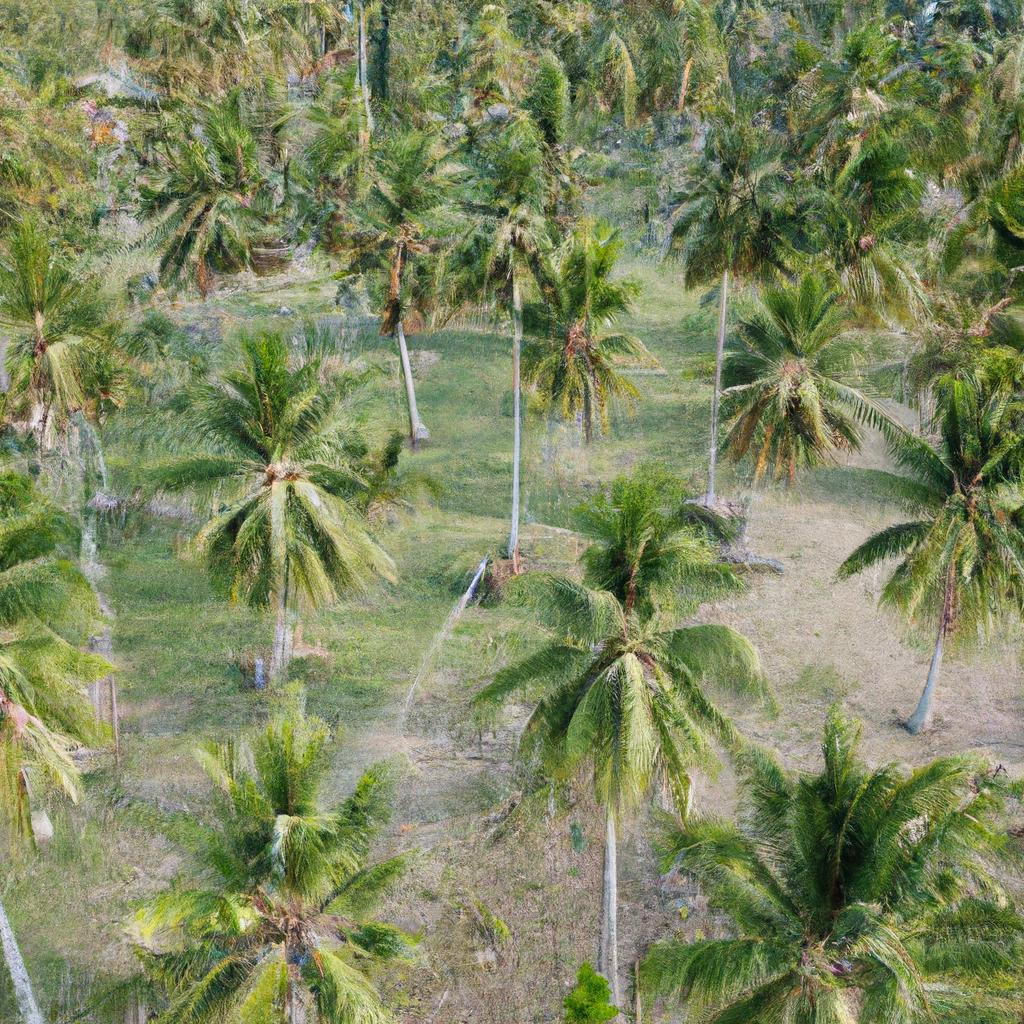coconut_tree: (115, 702, 454, 1023), (467, 493, 769, 799), (164, 343, 443, 637), (831, 397, 1023, 637), (713, 278, 897, 494), (492, 240, 678, 421)
